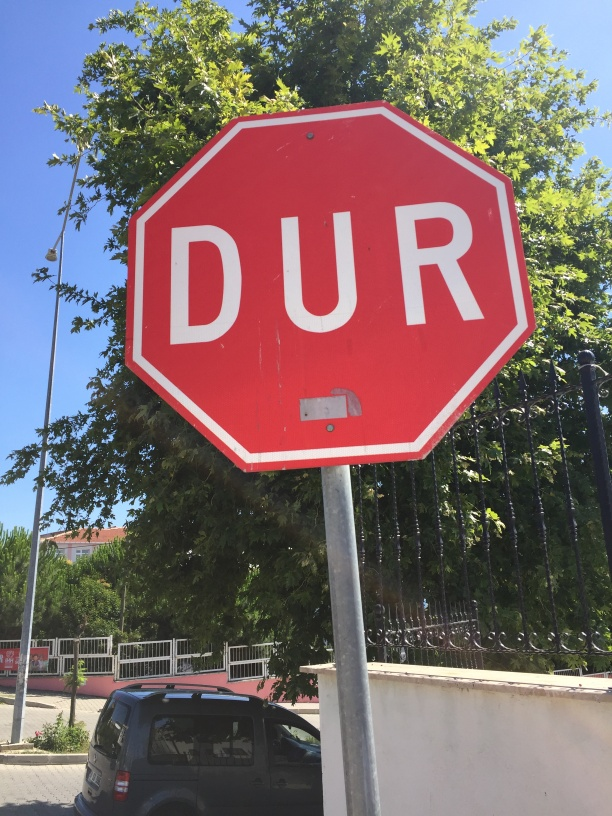arac_dur_isareti: (89, 117, 544, 527)
